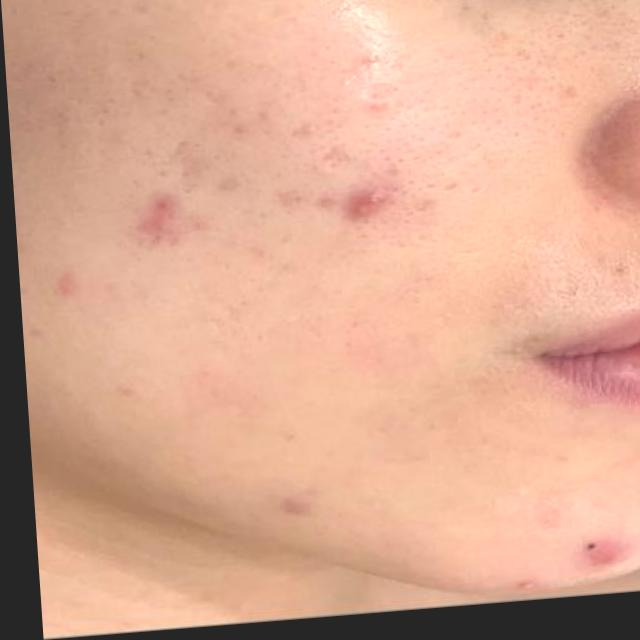9: (564, 546, 636, 584)
blackheads: (105, 182, 199, 254), (328, 171, 412, 243)
